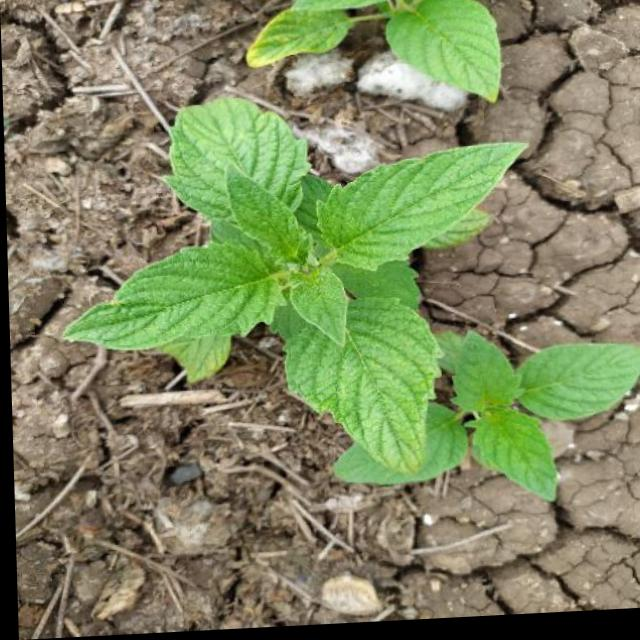crop: (48, 79, 640, 534)
